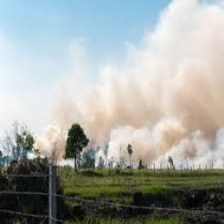smoke: (36, 11, 224, 154)
